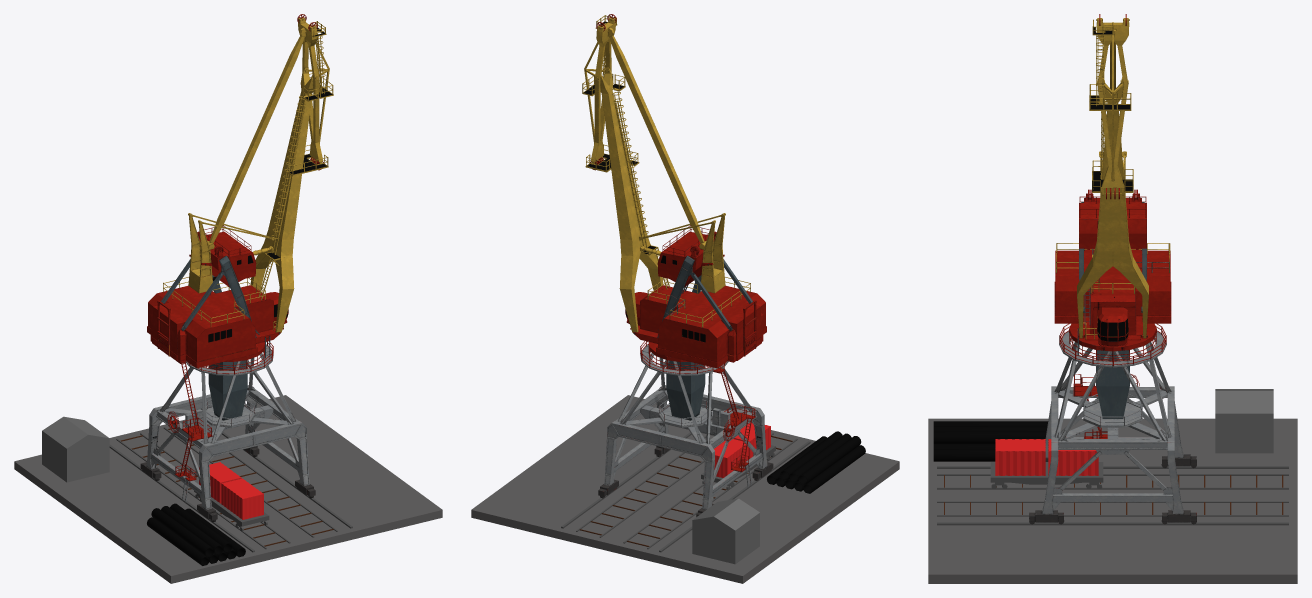
The model's file is ganz_16.glb.
3 views of the same model, side by side, from view 1: azimuth 30°, elevation 25°; view 2: azimuth 150°, elevation 25°; view 3: azimuth 270°, elevation 25° (orthographic). The views are drawn at different scales.
Parts seen in each view (by area): view 1: Cube.007, Cube.009, Cube.001, кабинка, малая кабинка, Cube.004, Cube, Cylinder.001, Cylinder, контейнер, Cube.002, рельсы лоя вагонетки (+3 smaller); view 2: Cube.007, Cube.009, Cube.001, кабинка, малая кабинка, Cube.004, Cube, Cylinder.001, Cylinder, рельсы лоя вагонетки, рельсы лоя вагонетки.001, Cube.002 (+1 smaller); view 3: Cube.007, Cube.001, Cube.009, кабинка, Cube, Cube.004, малая кабинка, Cylinder.001, Cube.002, контейнер, рельсы лоя вагонетки.001, рельсы лоя вагонетки (+3 smaller).
Boxes of the visible parts, x1,y1,x2,y2 form: Cube.007: [14, 395, 442, 583]; Cube.009: [188, 14, 333, 332]; Cube.001: [140, 353, 315, 522]; кабинка: [147, 277, 288, 368]; малая кабинка: [160, 213, 256, 337]; Cube.004: [42, 416, 109, 482]; Cube: [176, 341, 273, 433]; Cylinder.001: [151, 503, 232, 556]; Cylinder: [147, 508, 245, 565]; контейнер: [221, 478, 263, 519]; Cube.002: [109, 432, 352, 552]; рельсы лоя вагонетки: [163, 427, 337, 537]; Cube.007: [471, 395, 899, 583]; Cube.009: [582, 14, 725, 332]; Cube.001: [598, 353, 773, 516]; кабинка: [625, 277, 766, 368]; малая кабинка: [657, 213, 753, 337]; Cube.004: [692, 498, 759, 564]; Cube: [640, 341, 738, 427]; Cylinder.001: [780, 431, 861, 484]; Cylinder: [767, 436, 865, 493]; рельсы лоя вагонетки: [576, 436, 706, 537]; рельсы лоя вагонетки.001: [623, 433, 797, 549]; Cube.002: [561, 418, 810, 552]; Cube.007: [928, 418, 1297, 583]; Cube.001: [1029, 342, 1196, 524]; Cube.009: [1077, 14, 1148, 338]; кабинка: [1054, 243, 1171, 355]; Cube: [1059, 323, 1166, 427]; Cube.004: [1215, 389, 1273, 453]; малая кабинка: [1079, 151, 1146, 312]; Cylinder.001: [933, 421, 1048, 443]; Cube.002: [937, 466, 1288, 525]; контейнер: [995, 439, 1045, 475]; рельсы лоя вагонетки.001: [937, 474, 1288, 489]; рельсы лоя вагонетки: [937, 501, 1288, 516].
Bounding box in the file's own units: 28.99 × 46.46 × 28.99.
15 materials, 7 textured.
